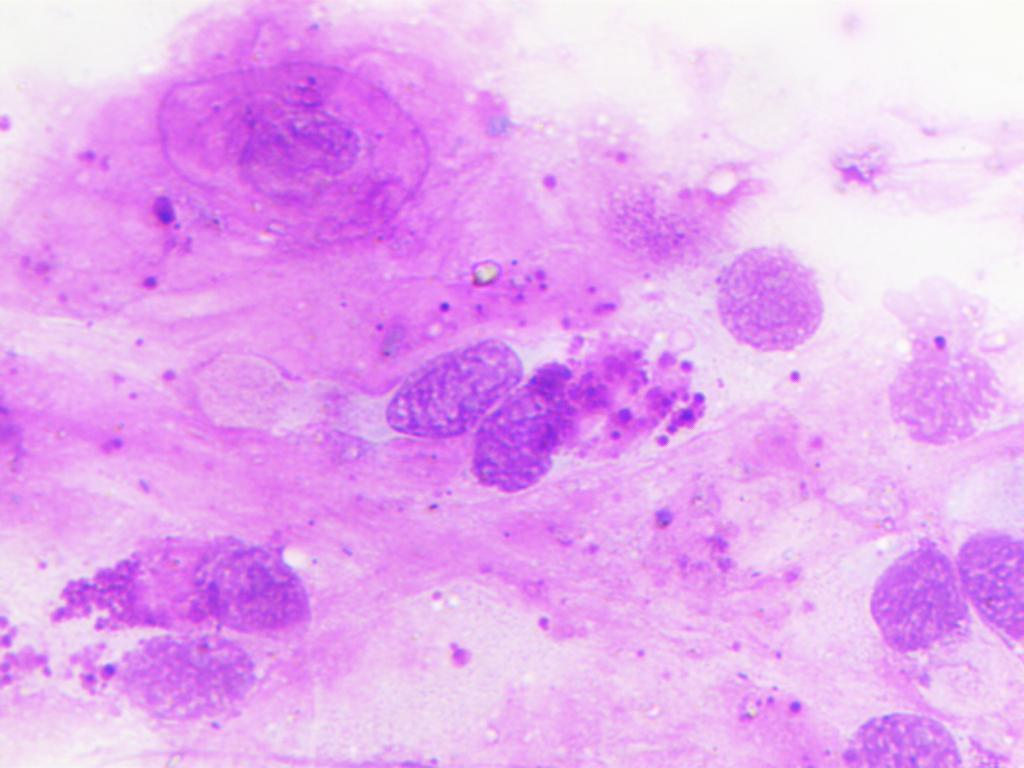artifact: (463, 244, 511, 293)
epithelial: (874, 266, 1011, 451), (459, 351, 602, 499), (89, 631, 264, 730), (386, 336, 531, 440), (863, 529, 965, 675), (194, 536, 327, 640), (711, 238, 828, 356), (963, 506, 1024, 668), (835, 704, 970, 768)
